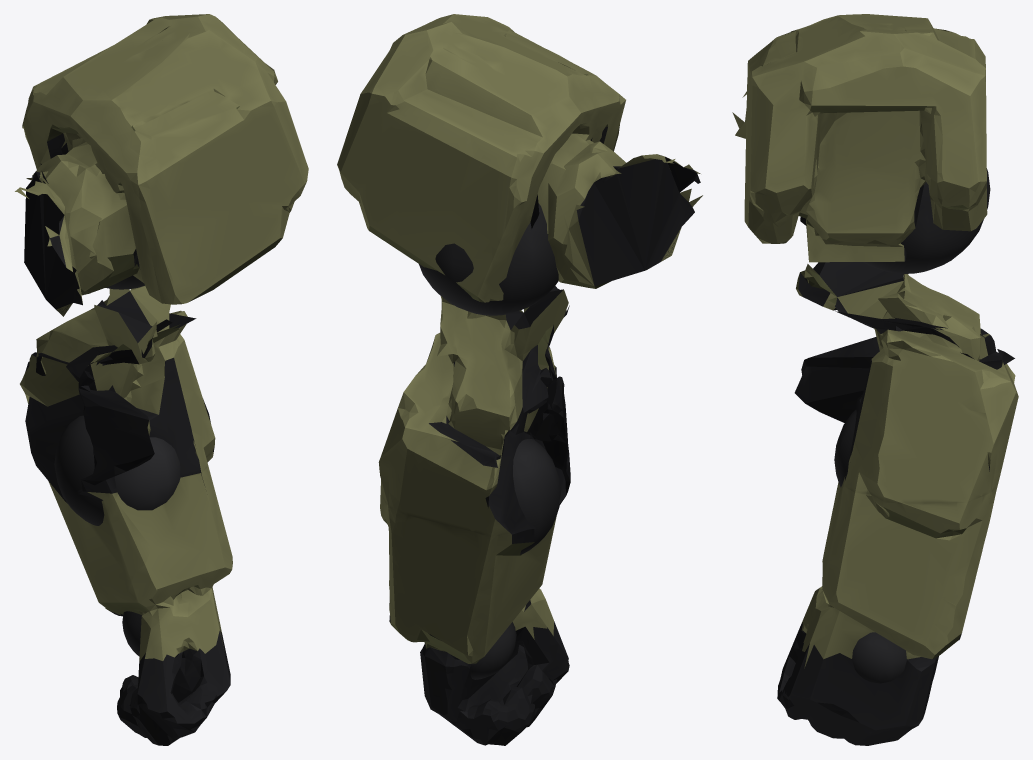
File: recon_gen_arm_l.glb
3 renders of one model, left to right at view 1: azimuth 30°, elevation 25°; view 2: azimuth 150°, elevation 25°; view 3: azimuth 270°, elevation 25°, orthographic. The views are drawn at different scales.
Visible parts, largest first — view 1: gen_pauldronL, gen_forearmL, gen_upperArmL, gen_capElbowL, gen_capWristL; view 2: gen_pauldronL, gen_upperArmL, gen_forearmL, gen_capShoulderL, gen_capElbowL, gen_capWristL; view 3: gen_pauldronL, gen_upperArmL, gen_forearmL, gen_capShoulderL, gen_capWristL, gen_capElbowL.
Boxes of the visible parts, left/top/right/bottom form: gen_pauldronL: left=15, top=14, right=308, bottom=316; gen_forearmL: left=31, top=451, right=232, bottom=745; gen_upperArmL: left=20, top=286, right=215, bottom=493; gen_capElbowL: left=54, top=415, right=180, bottom=525; gen_capWristL: left=122, top=611, right=141, bottom=656; gen_pauldronL: left=337, top=14, right=702, bottom=302; gen_upperArmL: left=378, top=286, right=570, bottom=536; gen_forearmL: left=380, top=493, right=569, bottom=745; gen_capShoulderL: left=419, top=203, right=558, bottom=315; gen_capElbowL: left=513, top=439, right=560, bottom=554; gen_capWristL: left=470, top=622, right=516, bottom=679; gen_pauldronL: left=732, top=14, right=987, bottom=262; gen_upperArmL: left=794, top=262, right=1018, bottom=503; gen_forearmL: left=777, top=476, right=997, bottom=745; gen_capShoulderL: left=863, top=168, right=990, bottom=273; gen_capWristL: left=852, top=632, right=907, bottom=683; gen_capElbowL: left=834, top=409, right=856, bottom=487.
Bounding box in the file's own units: 2.51 × 6.29 × 2.2.
